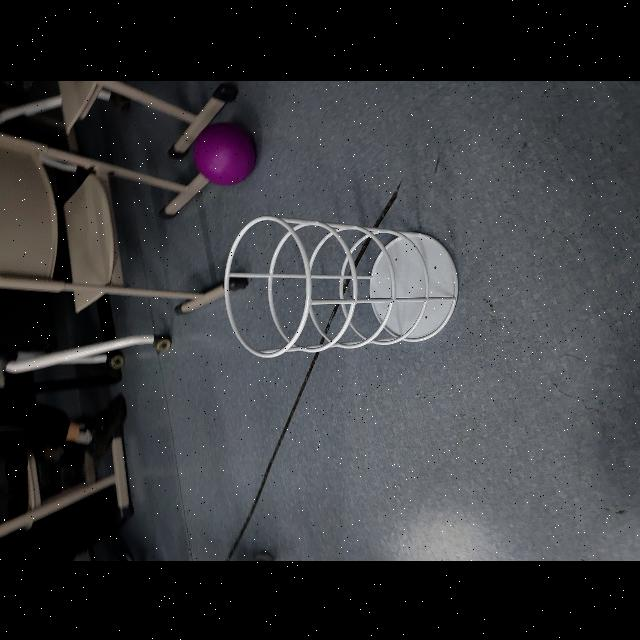S: (220, 212, 462, 360)
